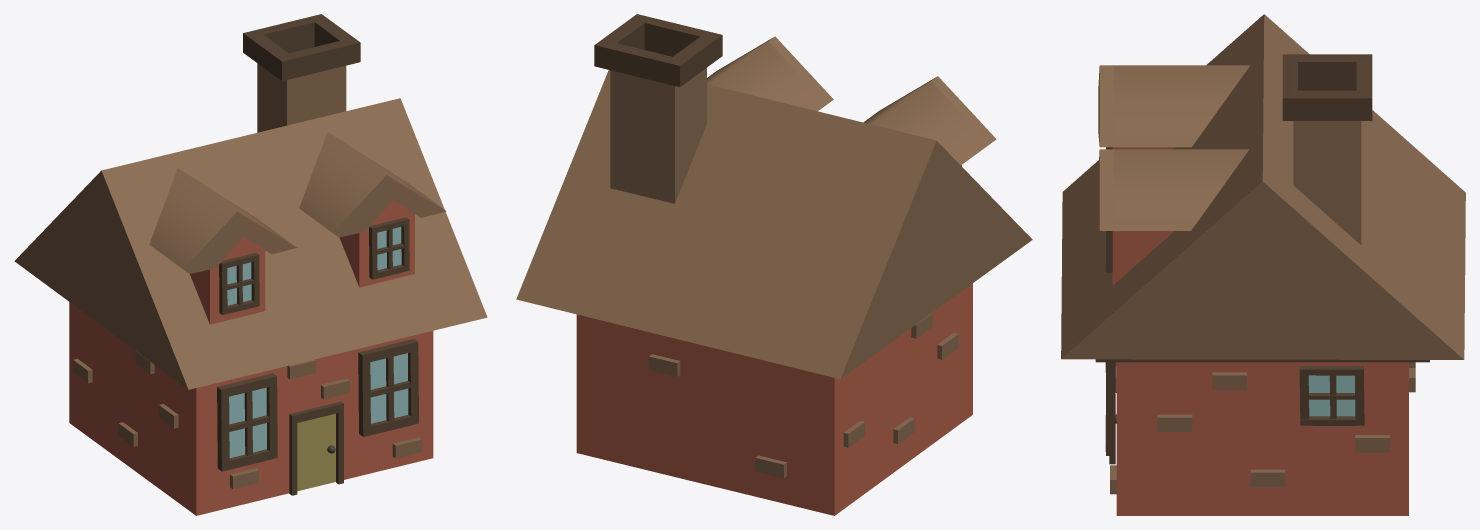
Rendered from house.fbx.
The picture shows the model from 3 angles, left to right: view 1: azimuth 30°, elevation 25°; view 2: azimuth 150°, elevation 25°; view 3: azimuth 270°, elevation 25°; orthographic projection. The views are drawn at different scales.
Visible parts, largest first — view 1: pCube48, group11; view 2: pCube48, group11; view 3: pCube48, group11.
Boxes of the visible parts, x1,y1,x2,y2 form: pCube48: (14, 14, 487, 389); group11: (69, 302, 433, 515); pCube48: (516, 14, 1032, 379); group11: (576, 283, 972, 515); pCube48: (1061, 14, 1465, 359); group11: (1095, 359, 1429, 515).
Size of the model in its own units: 24.73 by 28.64 by 25.17.
